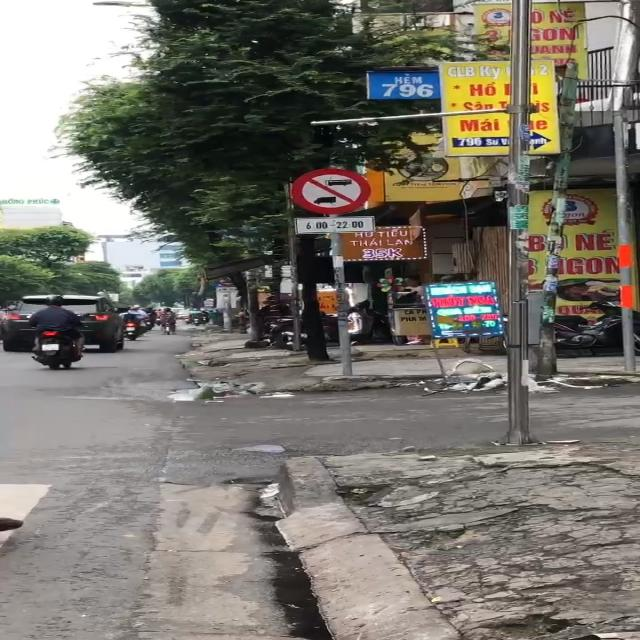Bien bao cam xe oto khach va xe oto tai: (285, 167, 377, 215)
